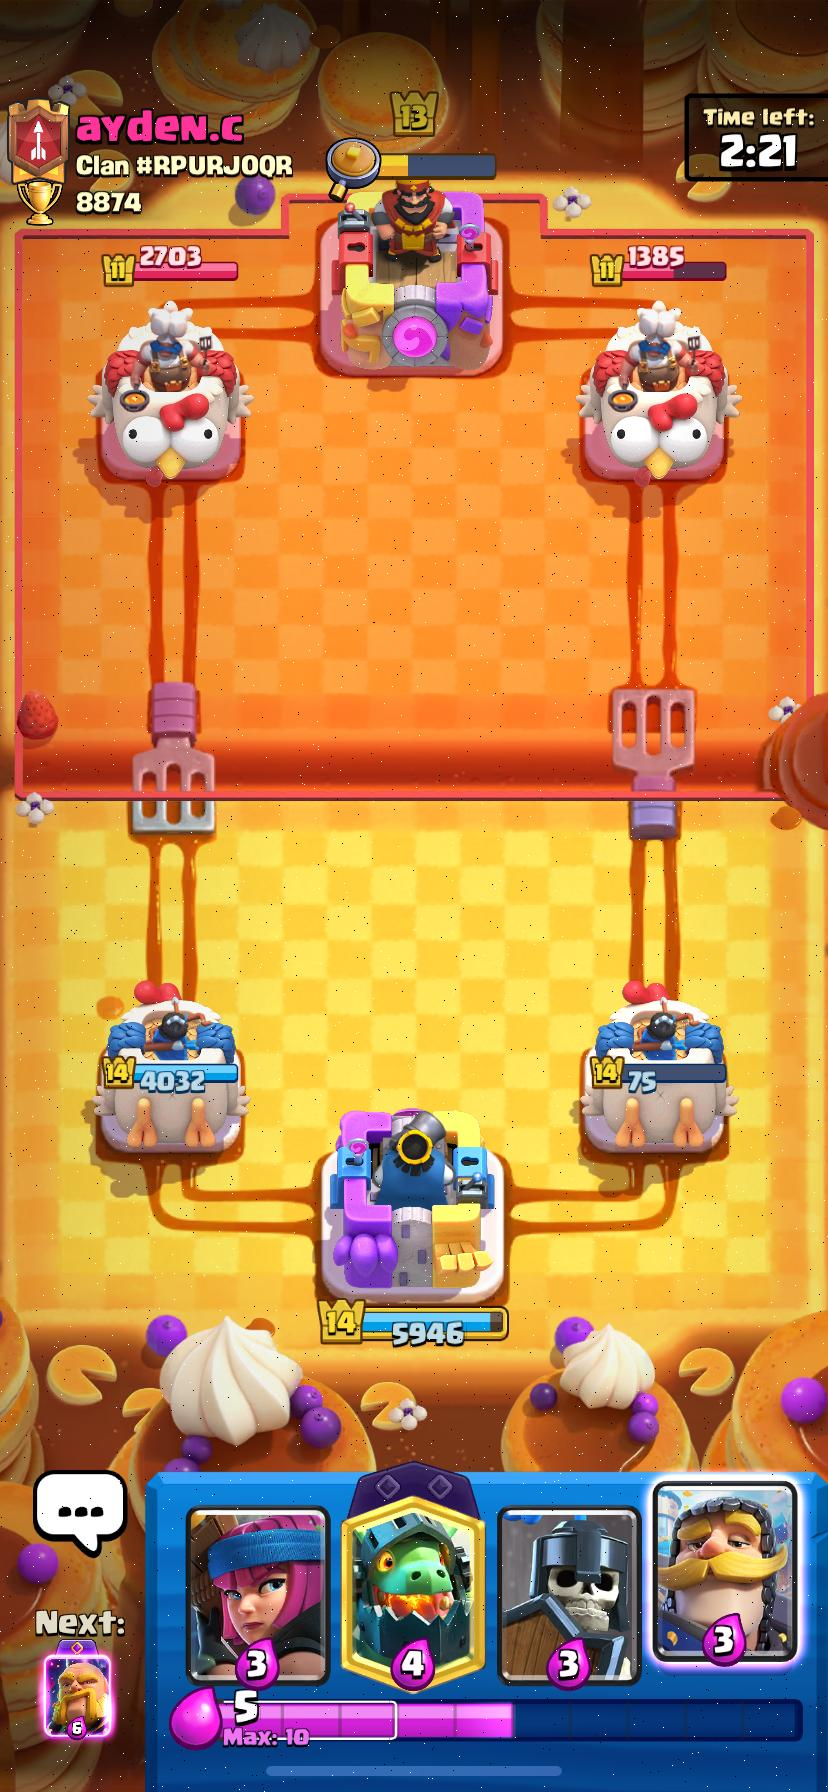EKingTower: (320, 179, 502, 377)
EnemyPanTower: (90, 301, 250, 486), (578, 301, 738, 486)
OwnKingTower: (321, 1109, 503, 1306)
OwnPrincessTower: (580, 982, 737, 1154), (93, 983, 248, 1152)
